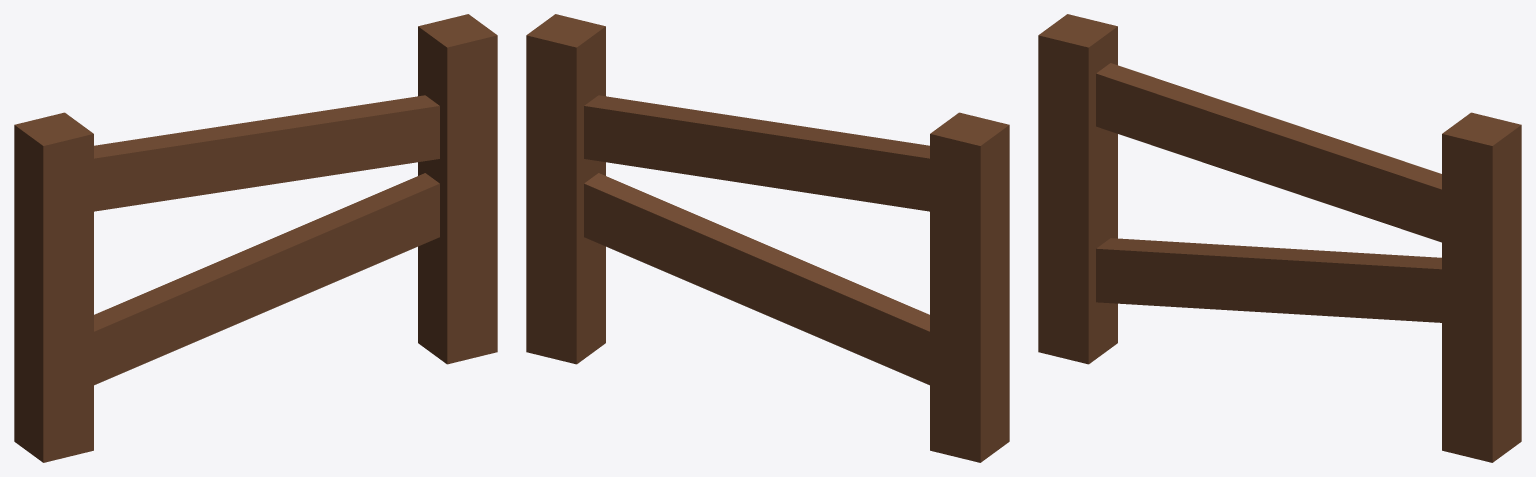
File: obstacles_fance_4_v2.fbx
3 renders of one model, left to right at view 1: azimuth 30°, elevation 25°; view 2: azimuth 150°, elevation 25°; view 3: azimuth 330°, elevation 25°, orthographic.
Visible parts, largest first — view 1: Cube.002; view 2: Cube.002; view 3: Cube.002.
Part boxes in pixels (box(x1,y1,x2,y2)): Cube.002: box(14, 14, 497, 462); Cube.002: box(526, 14, 1009, 462); Cube.002: box(1038, 14, 1521, 462).
Size of the model in its own units: 450 by 300 by 50.
